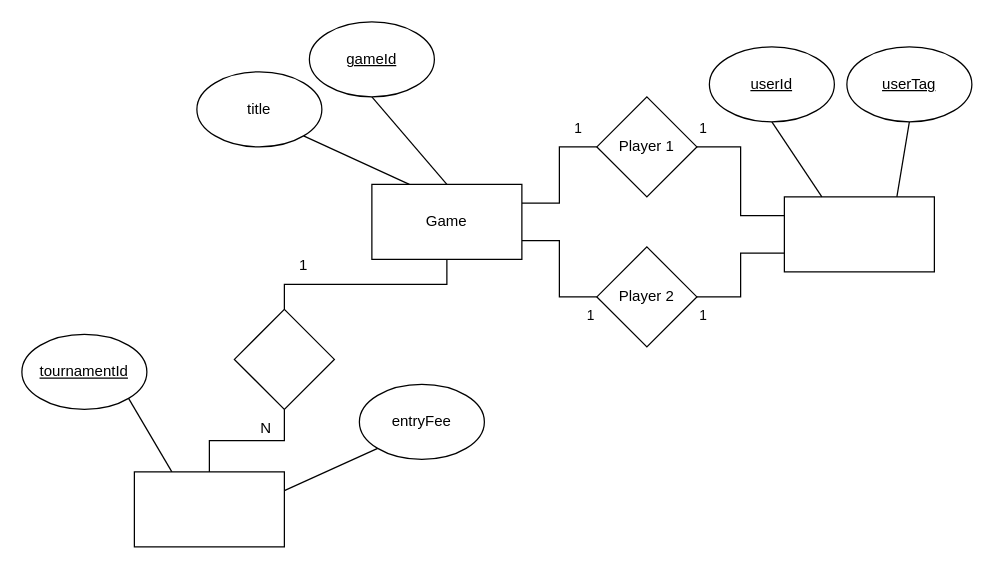
Image size: 994x569. Some labels were removed from this diagram. The shapes that lost their labels are listed below. From the top down, each one's centre as x and y in pixels, then its label:
At point 858,234: "Player".
At point 283,358: "has".
At point 208,509: "Tournament".
